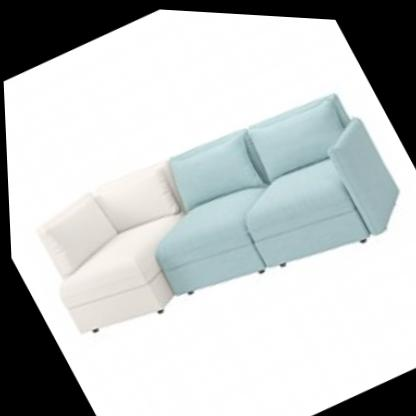Sofa: (1, 36, 416, 386)
